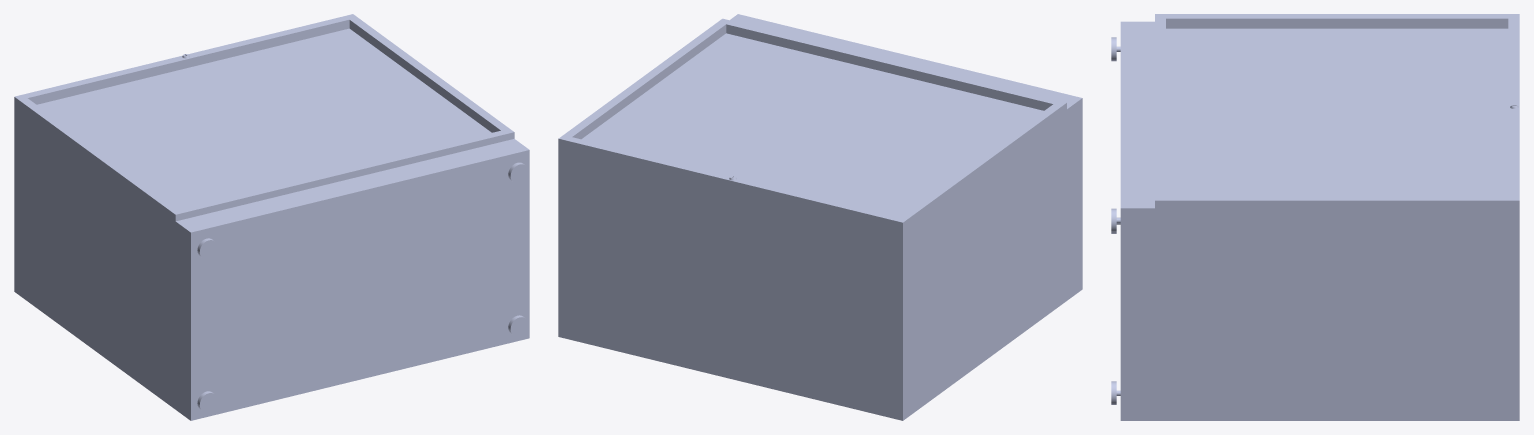
File: 3&5 Drawer base cabinet - 40in.y.fbx
3 views of the same model, side by side, from view 1: azimuth 30°, elevation 25°; view 2: azimuth 150°, elevation 25°; view 3: azimuth 270°, elevation 25° (orthographic). The views are drawn at different scales.
Parts seen in each view (by area): view 1: Body_1; view 2: Body_1; view 3: Body_1.
Boxes of the visible parts, bbox=[...] form: Body_1: bbox=[14, 14, 529, 420]; Body_1: bbox=[558, 14, 1082, 420]; Body_1: bbox=[1111, 14, 1519, 420].
Bounding box in the file's own units: 1.02 × 0.9382 × 0.5639.
